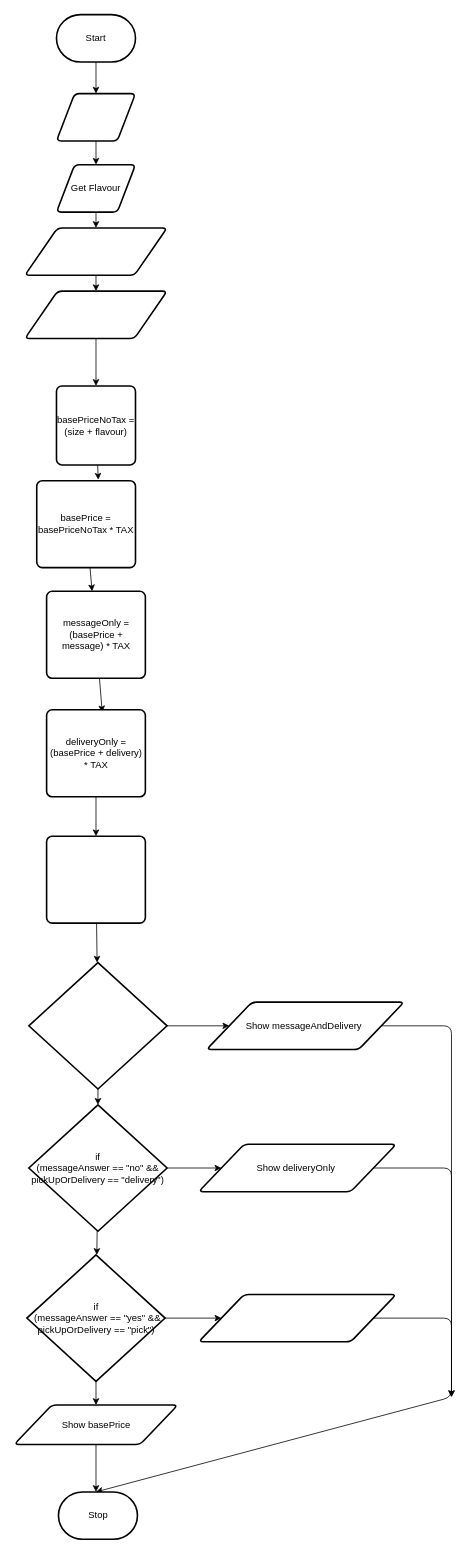
This 472x1553 diagram has some shape labels left out. The shapes that lost their labels are listed below. From the top down, each one's box as (x1, y1, x2, y2) in pixels, then its label:
(55, 92, 136, 141): Get Size
(24, 227, 167, 276): Get Message (yes or no)
(24, 290, 167, 339): Get Pick up or Delivery
(45, 835, 146, 924): messageAndDelivery = (basePrice + message + delivery) * TAX
(28, 961, 167, 1089): if (messageAnswer == "yes" && pickUpOrDelivery == "delivery")
(198, 1293, 397, 1342): Show messageOnly
